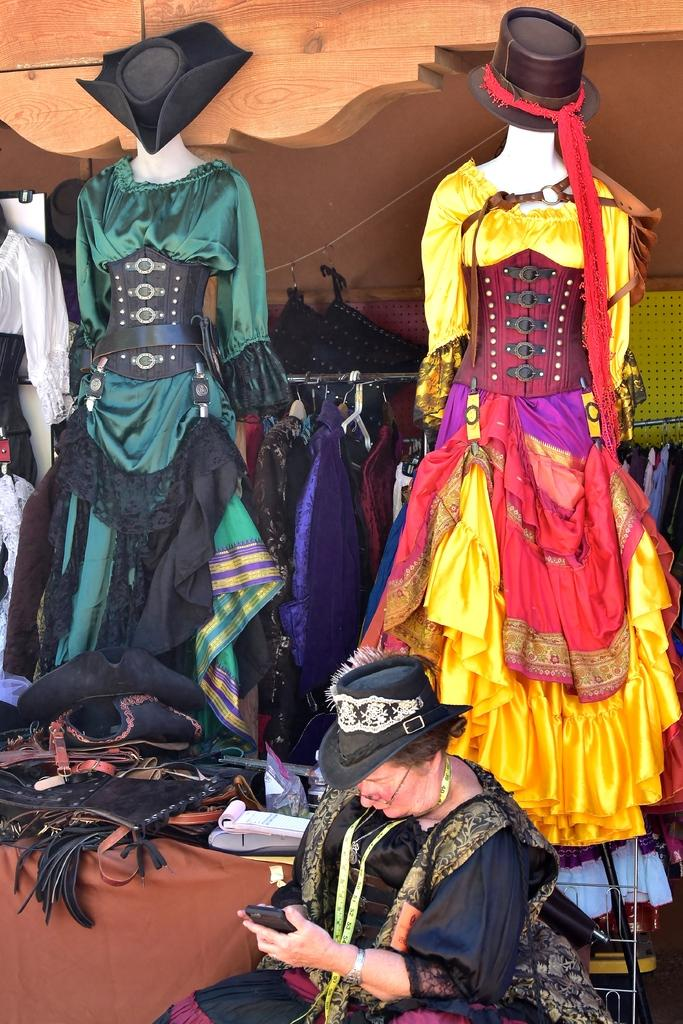Hat: (0, 642, 220, 936), (66, 22, 262, 154), (320, 654, 472, 794), (469, 4, 598, 135)
